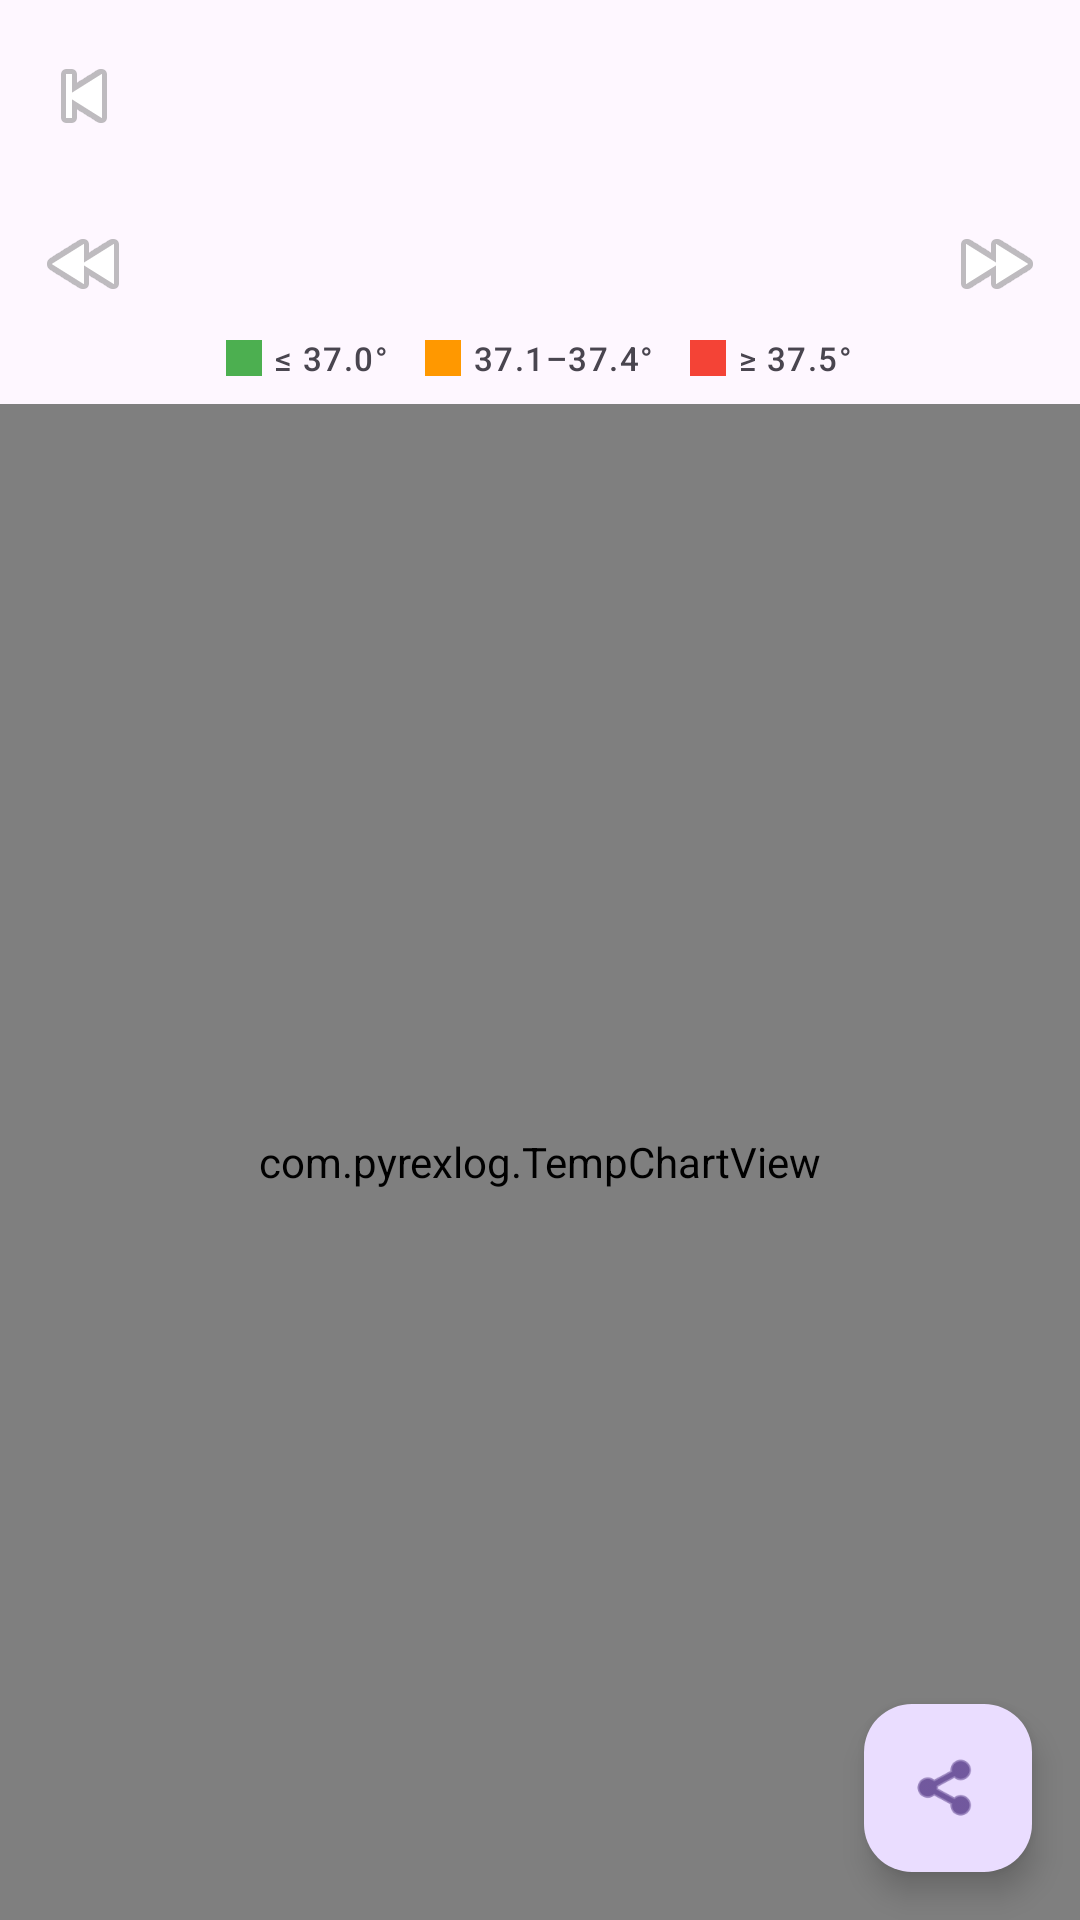

Where to tap for icons on this 1080 × 1920 app screen, as (x=x, y=y):
Compartir: (x=948, y=1788)
Ficha anterior: (x=83, y=264)
Ficha siguiente: (x=997, y=264)
